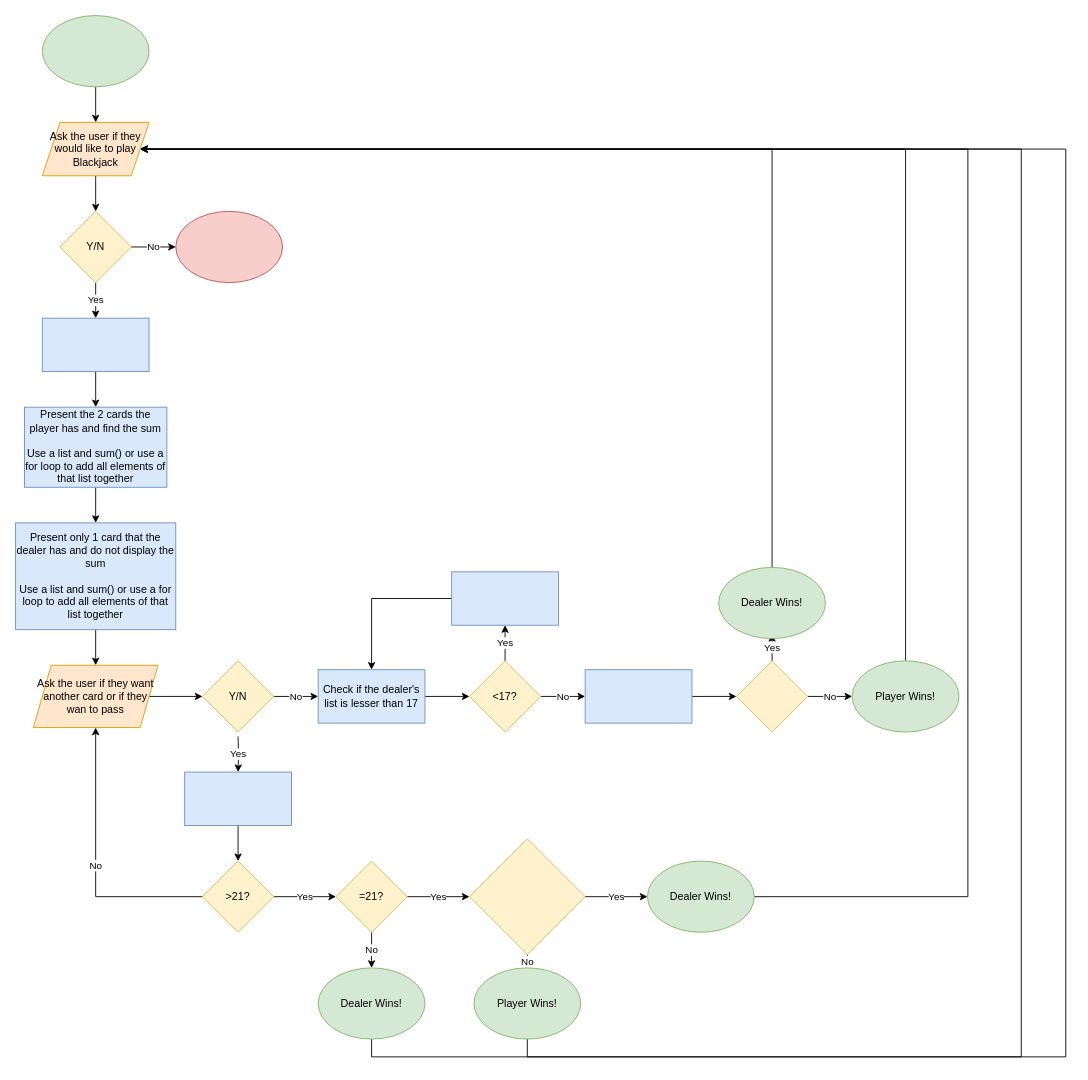
This 1088x1080 diagram has some shape labels left out. Each missing label, with the centre of its shape:
<=21 & >Player?: the point at 772,696
Check if the dealer's list is lesser than 21 and greater than the player's list: the point at 638,696
Clear the console and display Blackjack Ascii Art: the point at 95,344
Dealer's list = 21?: the point at 527,896
End Program: the point at 229,246
Select a random number from the Cards list and add it to the dealer's list: the point at 504,598
Select a random number from the Cards list and add it to the player's list: the point at 237,798
Start Program: the point at 95,51
